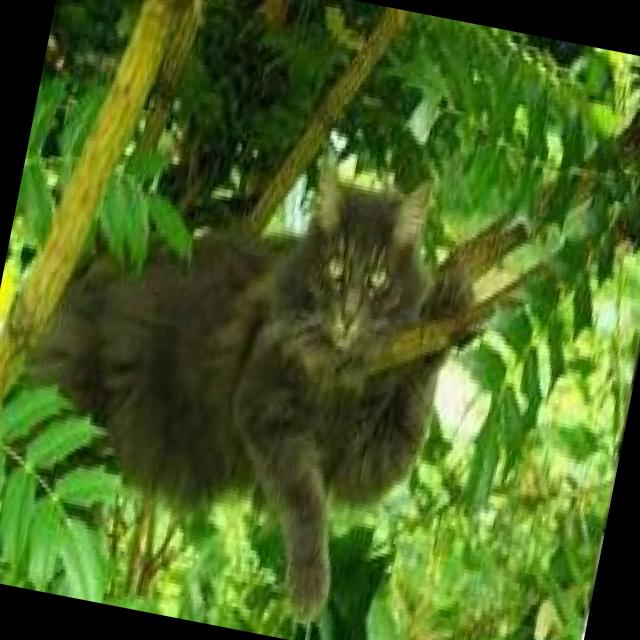Gato: (0, 79, 513, 640)
